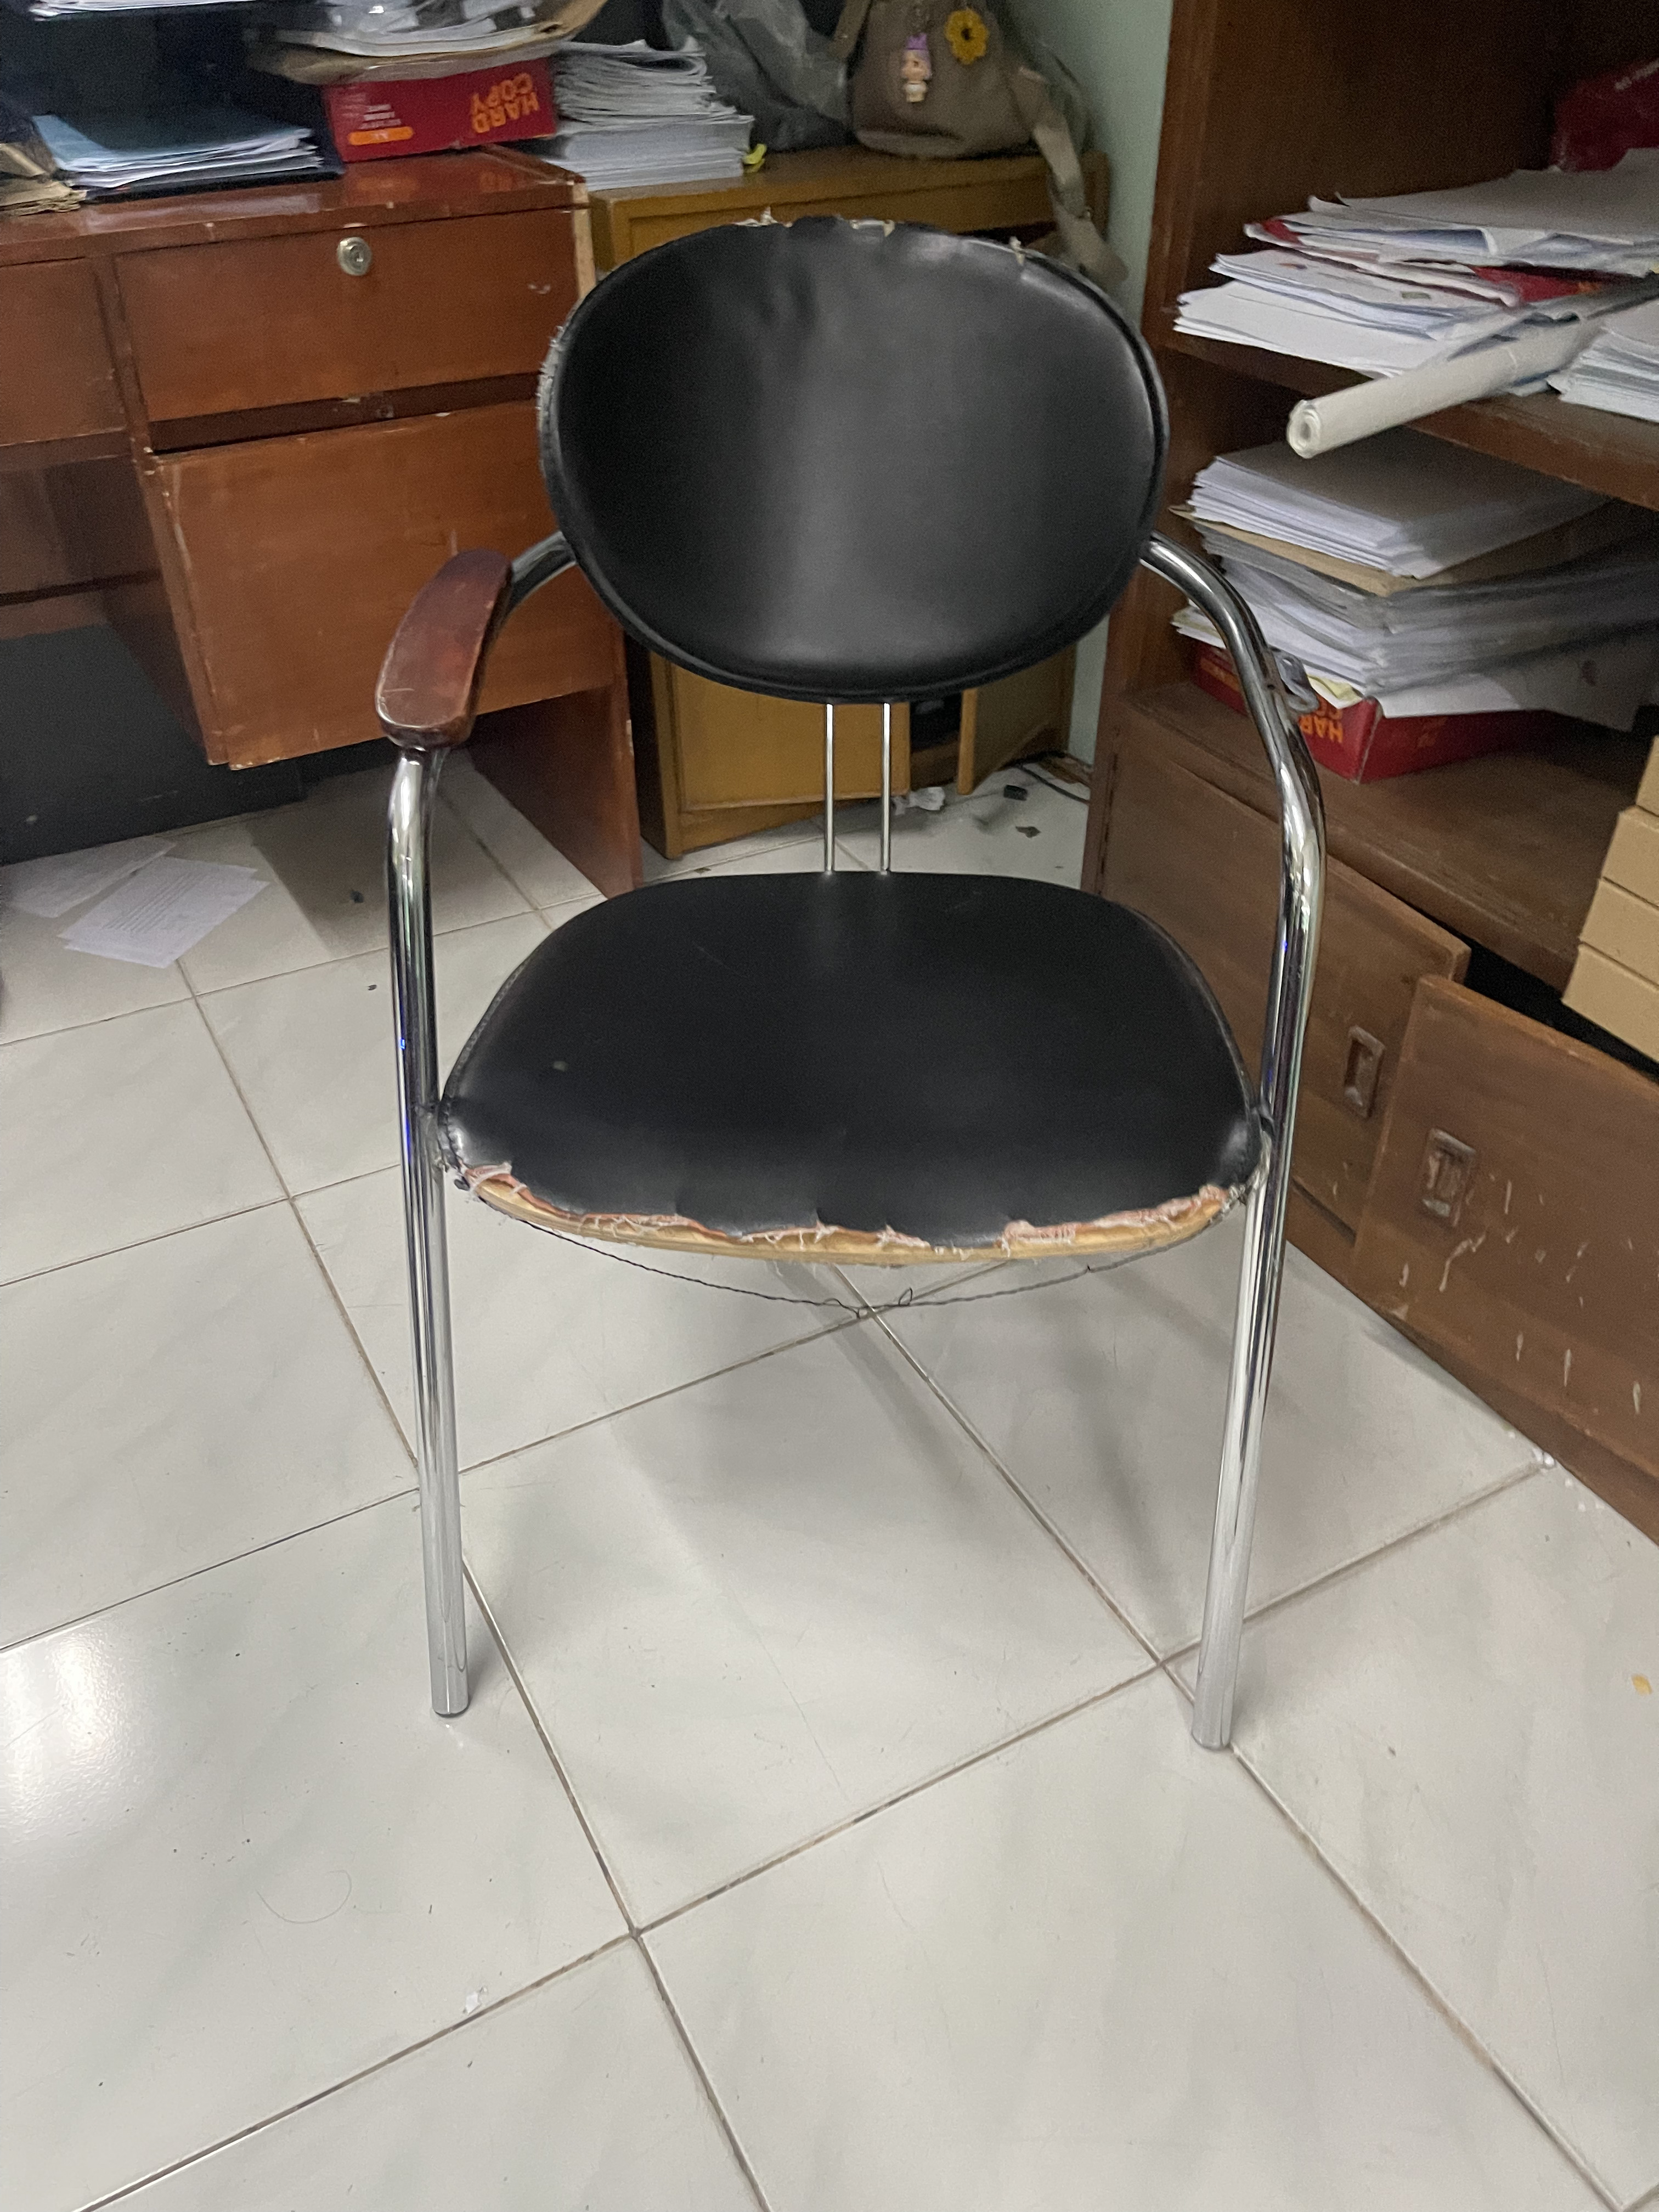chair1: (369, 214, 1330, 1759)
